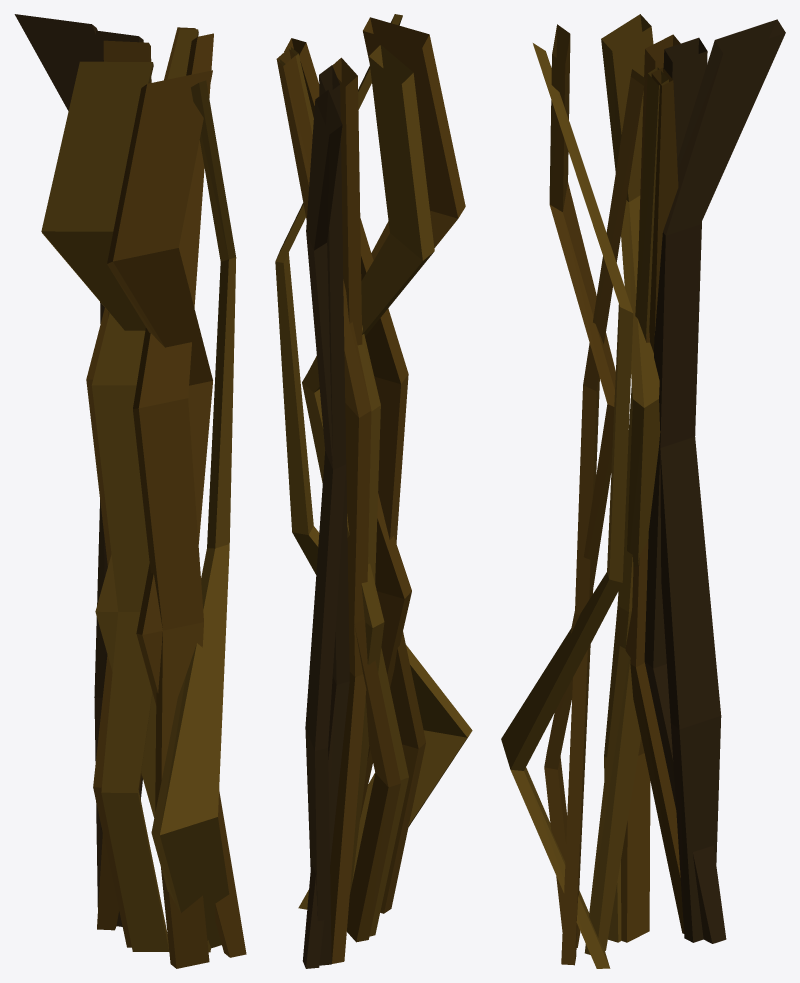
File: einstein.glb
The picture shows the model from 3 angles, left to right: view 1: azimuth 30°, elevation 25°; view 2: azimuth 150°, elevation 25°; view 3: azimuth 270°, elevation 25°; orthographic projection. The views are drawn at different scales.
Parts seen in each view (by area): view 1: art1_6.001, art1_2.001, art1_3.001, art1_4.001, art1_5.001; view 2: art1_5.001, art1_4.001, art1_6.001, art1_2.001, art1_3.001; view 3: art1_4.001, art1_2.001, art1_6.001, art1_3.001, art1_5.001.
Boxes of the visible parts, <box> form: art1_6.001: <box>107,33,246,968</box>; art1_2.001: <box>41,29,210,952</box>; art1_3.001: <box>151,80,236,948</box>; art1_4.001: <box>14,14,143,926</box>; art1_5.001: <box>86,27,195,947</box>; art1_5.001: <box>276,48,400,963</box>; art1_4.001: <box>302,65,349,968</box>; art1_6.001: <box>284,17,465,913</box>; art1_2.001: <box>279,45,434,936</box>; art1_3.001: <box>275,14,472,909</box>; art1_4.001: <box>644,19,785,943</box>; art1_2.001: <box>584,14,668,954</box>; art1_6.001: <box>544,24,645,965</box>; art1_3.001: <box>501,43,633,968</box>; art1_5.001: <box>621,34,684,942</box>.
Size of the model in its own units: 1.87 by 9.15 by 2.63.
